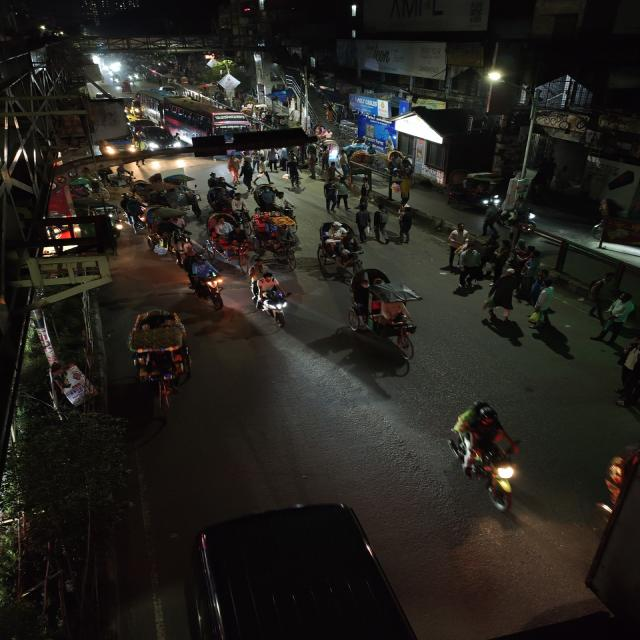bus: (157, 97, 252, 141)
car: (134, 125, 185, 153)
motorcycle: (441, 396, 540, 516), (250, 270, 294, 330), (180, 258, 229, 310), (505, 205, 540, 238)
pedestrian: (525, 308, 578, 362), (612, 336, 640, 424), (482, 268, 525, 324), (595, 294, 636, 344), (582, 272, 618, 322), (530, 282, 564, 328), (442, 223, 472, 267), (457, 244, 484, 289), (254, 182, 288, 214), (396, 207, 420, 243), (282, 156, 305, 192), (353, 203, 375, 240), (480, 201, 502, 237), (321, 179, 344, 213), (370, 205, 391, 242), (236, 158, 257, 192), (521, 244, 544, 274), (331, 179, 351, 211)
pickup_van: (101, 134, 140, 158)
rickshaw: (340, 267, 431, 353), (121, 306, 196, 410), (142, 201, 207, 252), (253, 212, 302, 270), (587, 195, 640, 247), (207, 220, 258, 272), (205, 182, 252, 224)
